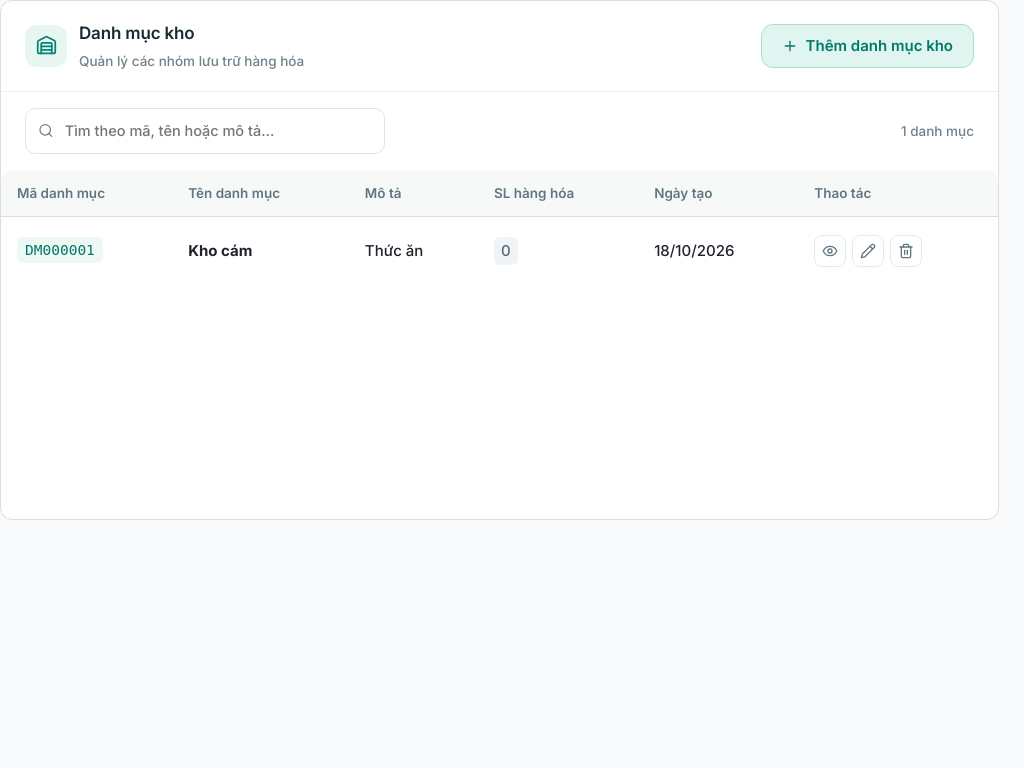
Test: Warehouse category CRUD › keeps the form open and shows server errors without claiming success
Check: the text "Kho cám" is shown, box [188, 240, 252, 260]
Click the button "Thêm danh mục kho".
click(867, 46)  # box [761, 24, 974, 68]
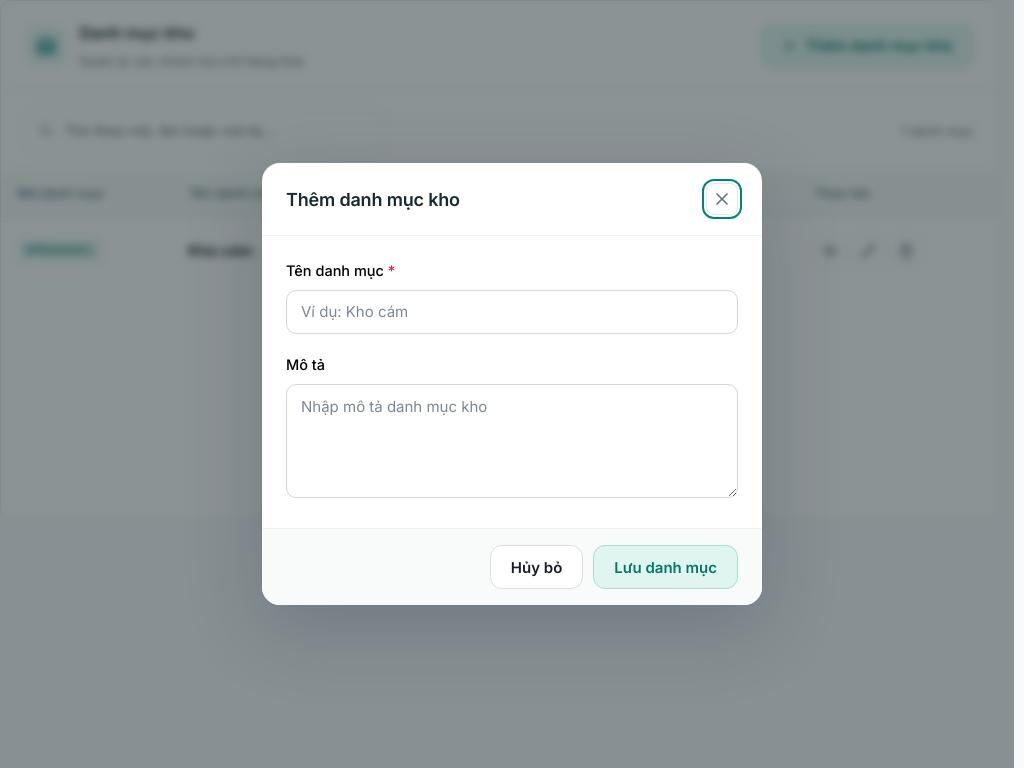
Type "Kho cám" into the field labelled "Tên danh mục *".
click(512, 312); type("Kho cám")  # box [286, 290, 738, 334]
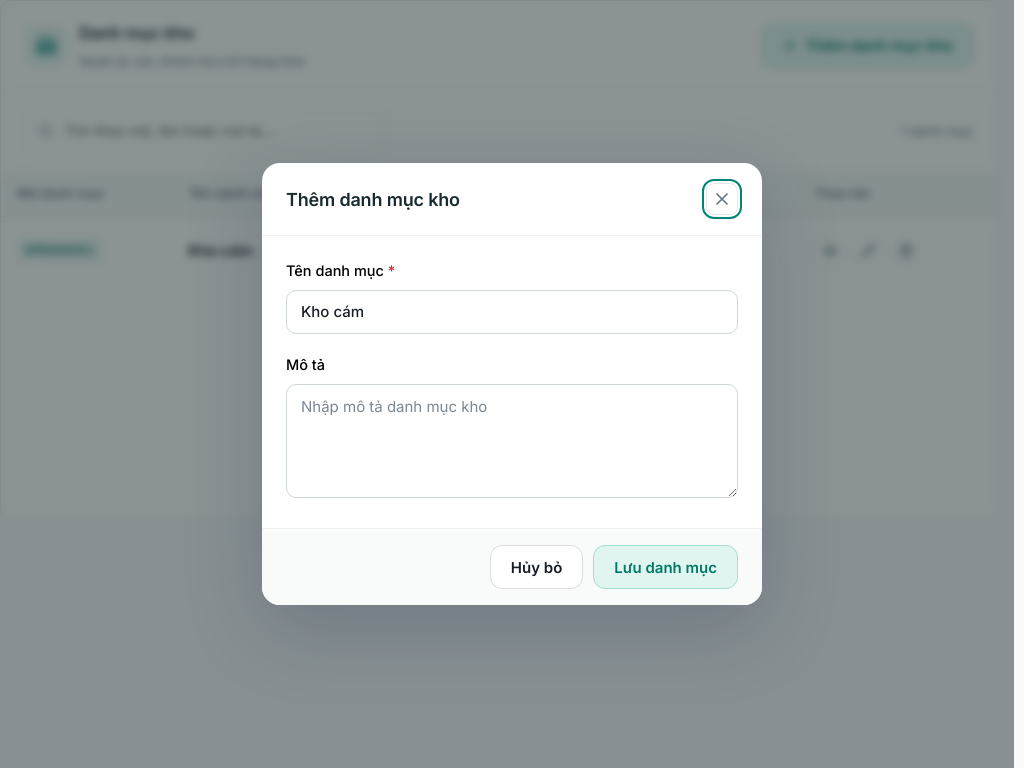
Click the button "Lưu danh mục".
click(666, 567)  # box [593, 545, 738, 589]
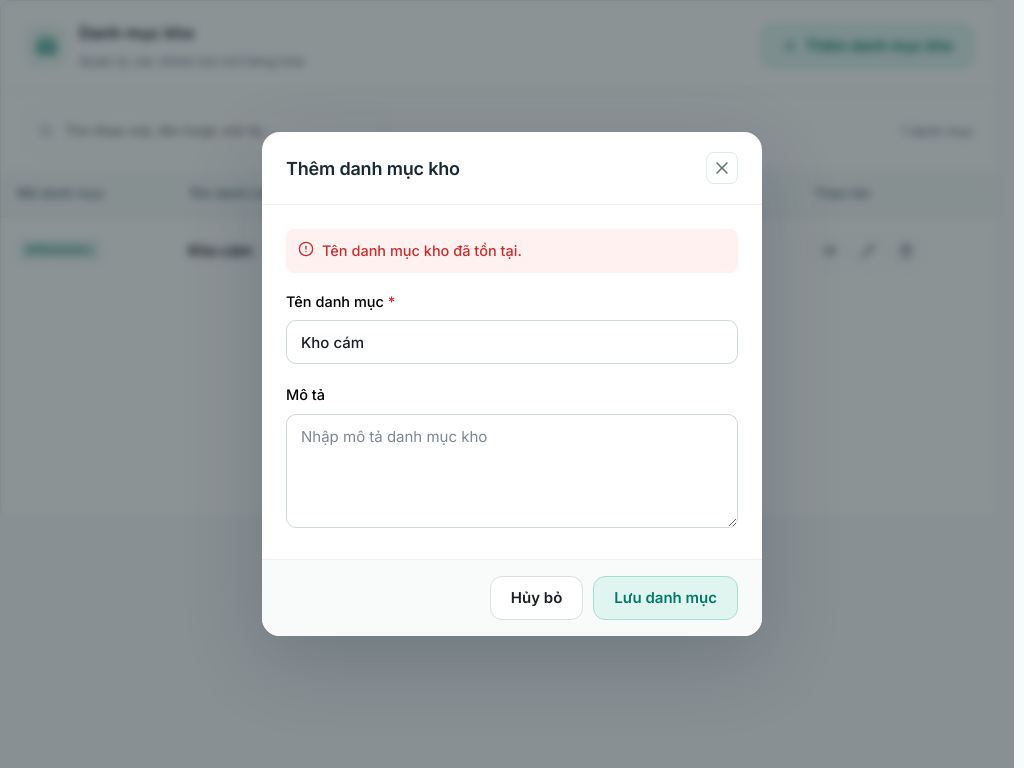
Check: the dialog is shown, box [262, 132, 762, 636]
Check: the message reads "Tên danh mục kho đã tồn tại.", box [322, 242, 522, 259]
